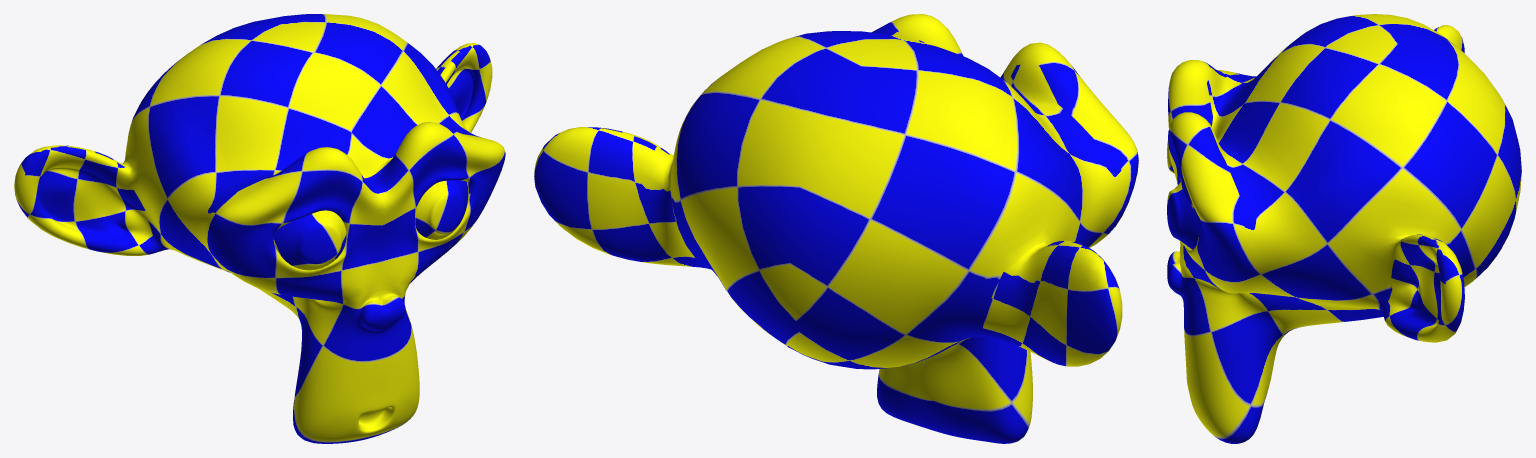
Rendered from SuzannePisincipledBSDFTextured.glb.
3 views of the same model, side by side, from view 1: azimuth 30°, elevation 25°; view 2: azimuth 150°, elevation 25°; view 3: azimuth 270°, elevation 25° (orthographic). The views are drawn at different scales.
Parts seen in each view (by area): view 1: Suzanne; view 2: Suzanne; view 3: Suzanne.
Boxes of the visible parts, <box> form: Suzanne: <box>14,14,505,443</box>; Suzanne: <box>534,14,1138,443</box>; Suzanne: <box>1167,14,1521,443</box>.
Size of the model in its own units: 2.66 by 1.91 by 1.6.
1 material, 1 textured.
